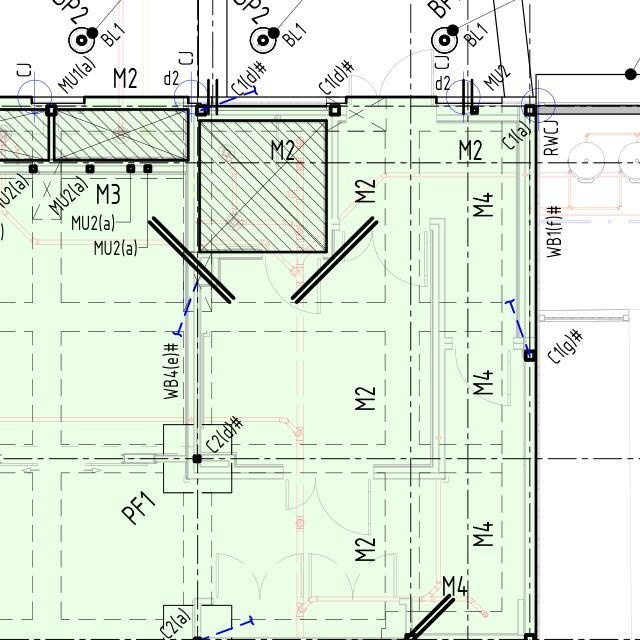M2: (265, 125, 313, 171), (345, 375, 387, 423), (343, 529, 391, 567), (453, 133, 499, 169), (351, 173, 385, 203)
M3: (85, 173, 139, 211)
M4: (451, 181, 503, 229), (459, 503, 503, 555), (465, 359, 499, 405), (435, 571, 473, 601)
PF1: (115, 489, 169, 529)
